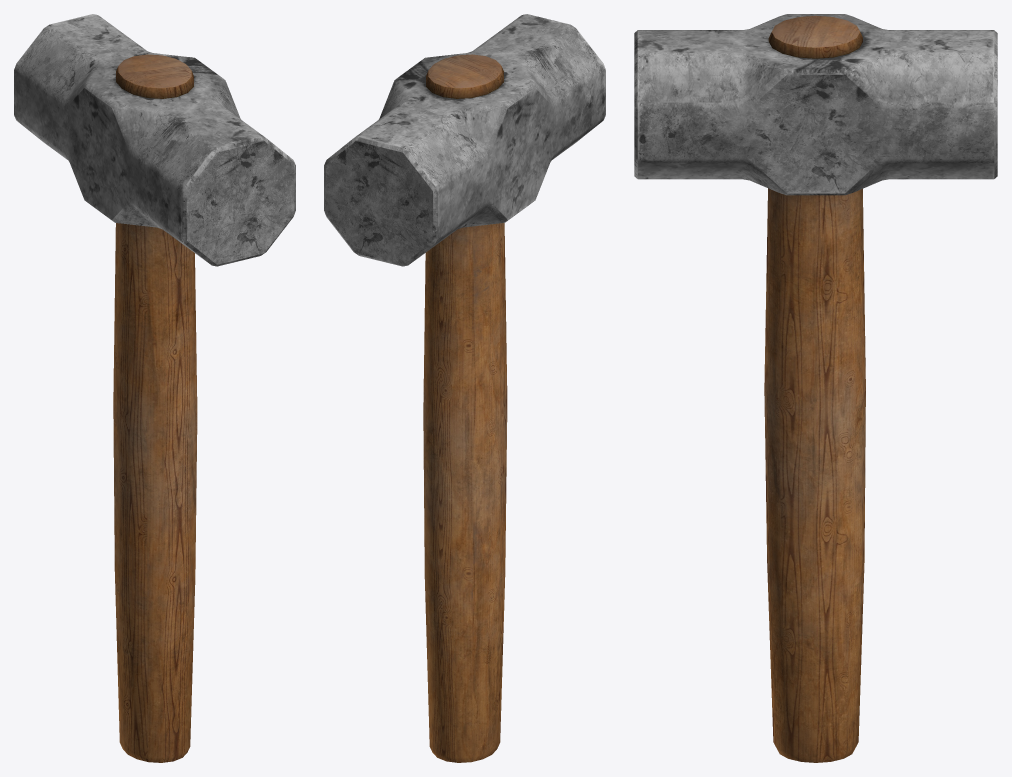
Rendered from SledgeHammer.glb.
The picture shows the model from 3 angles, left to right: view 1: azimuth 30°, elevation 25°; view 2: azimuth 150°, elevation 25°; view 3: azimuth 270°, elevation 25°; orthographic projection. The views are drawn at different scales.
Visible parts, largest first — view 1: Cylinder; view 2: Cylinder; view 3: Cylinder.
Boxes of the visible parts, <box> form: Cylinder: <box>14,14,295,762</box>; Cylinder: <box>324,14,605,762</box>; Cylinder: <box>634,14,997,762</box>.
Bounding box in the file's own units: 0.0683 × 0.3915 × 0.1783.
Materials: 2 (2 with a texture image).
